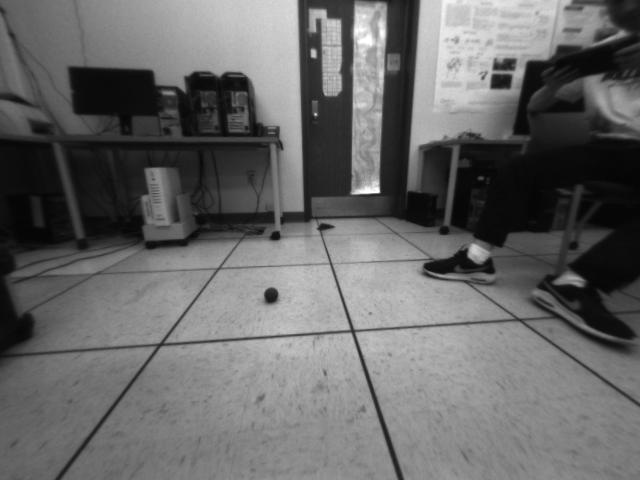dogtoy: (250, 279, 291, 309)
